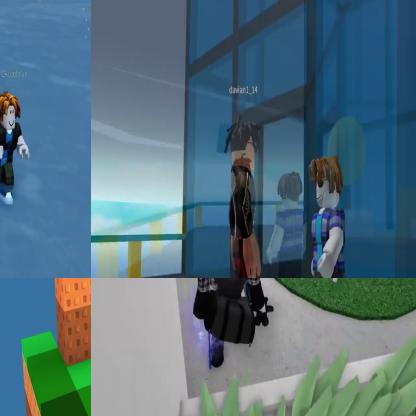Roblox-Avatar: (225, 115, 273, 278), (193, 279, 276, 371), (301, 156, 359, 278), (267, 170, 308, 278), (1, 91, 31, 207)
